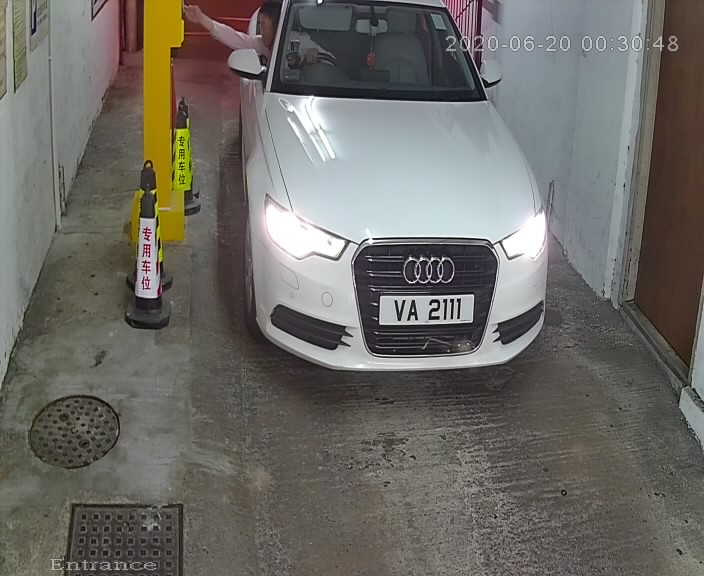privatecar: (252, 3, 563, 391)
